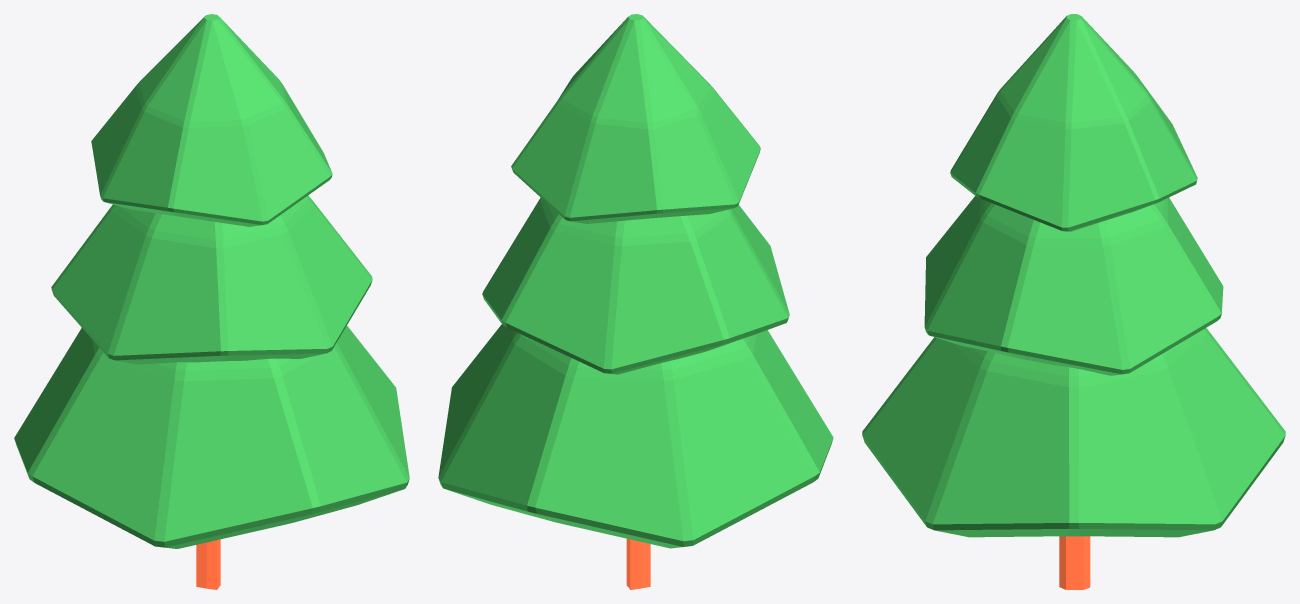
Rendered from Tree 2.fbx.
The picture shows the model from 3 angles, left to right: view 1: azimuth 30°, elevation 25°; view 2: azimuth 150°, elevation 25°; view 3: azimuth 270°, elevation 25°; orthographic projection.
Parts seen in each view (by area): view 1: Tree 1.094; view 2: Tree 1.094; view 3: Tree 1.094.
Boxes of the visible parts, bbox=[...] form: Tree 1.094: bbox=[14, 14, 409, 589]; Tree 1.094: bbox=[438, 14, 833, 589]; Tree 1.094: bbox=[862, 14, 1285, 589].
Bounding box in the file's own units: 37.49 × 55.81 × 37.49.
